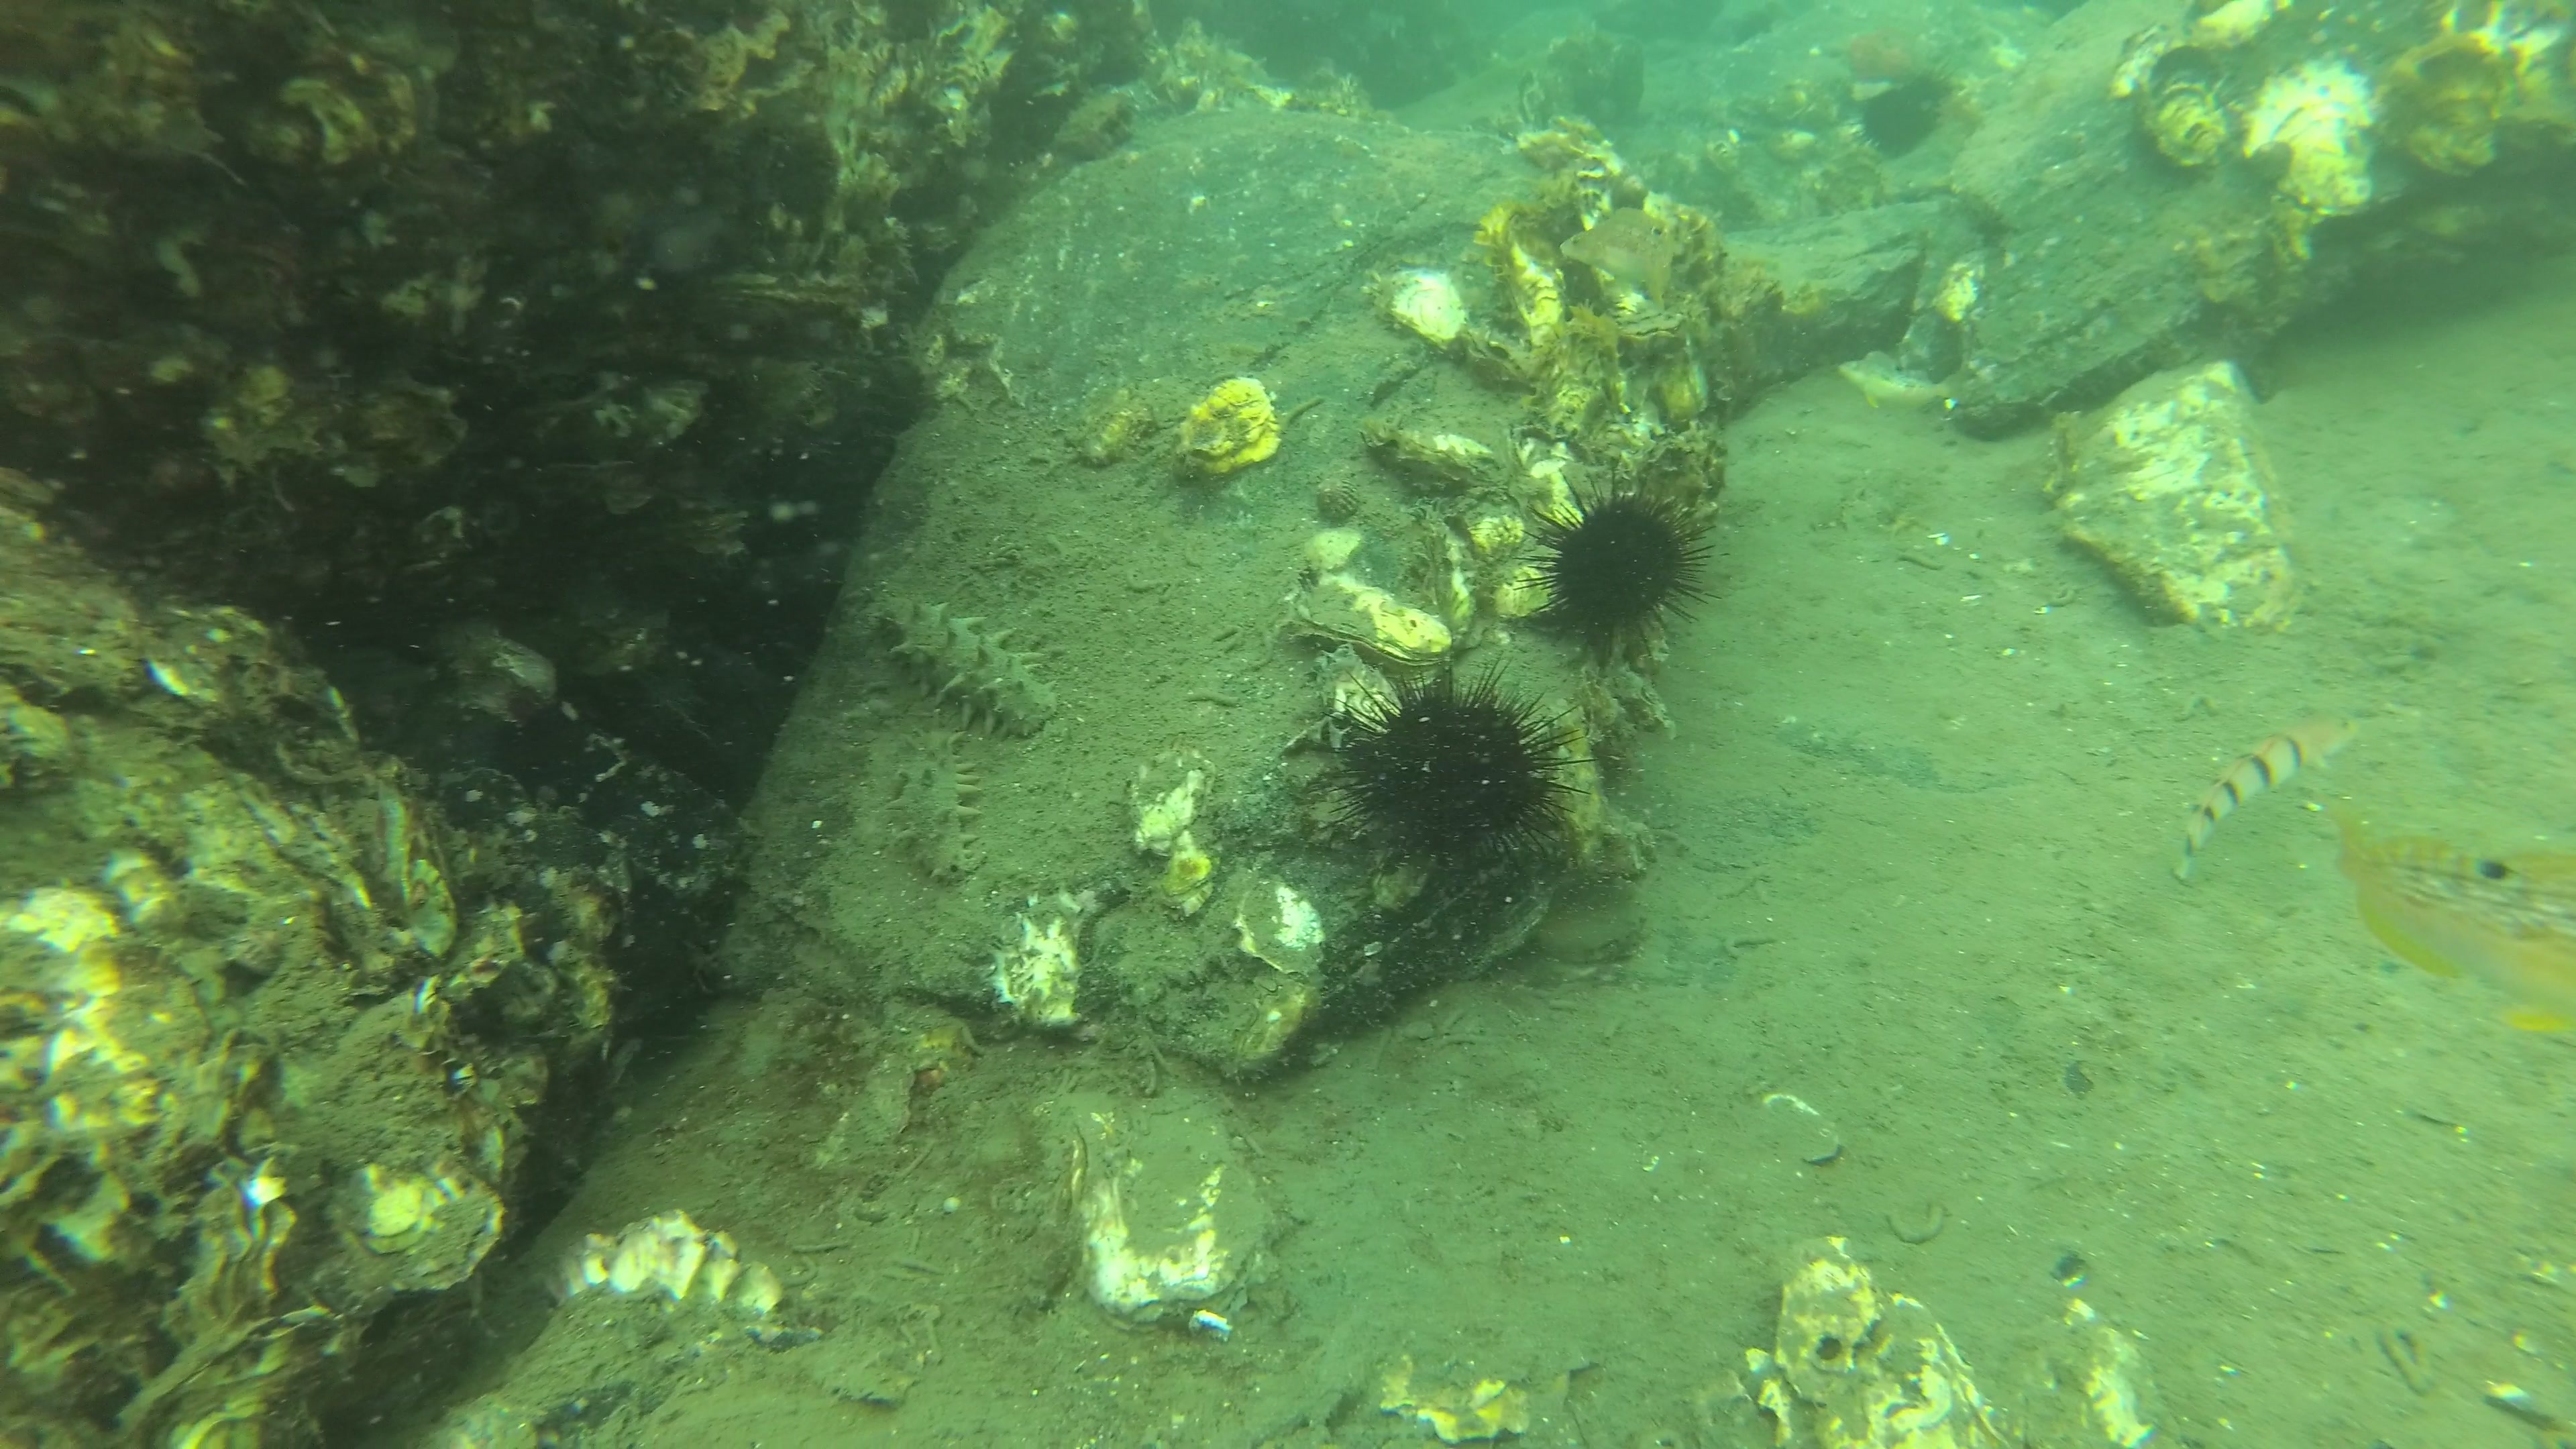echinus: (1336, 678, 1589, 860), (1532, 474, 1720, 655), (1852, 73, 1953, 157)
holothurian: (863, 580, 1063, 743), (892, 727, 987, 888)
